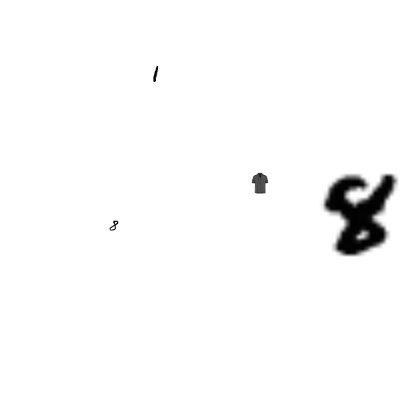1: (73, 201, 129, 257)
4: (131, 28, 173, 70)
8: (267, 147, 309, 189)
Pullover: (348, 149, 390, 191), (309, 300, 337, 328)
